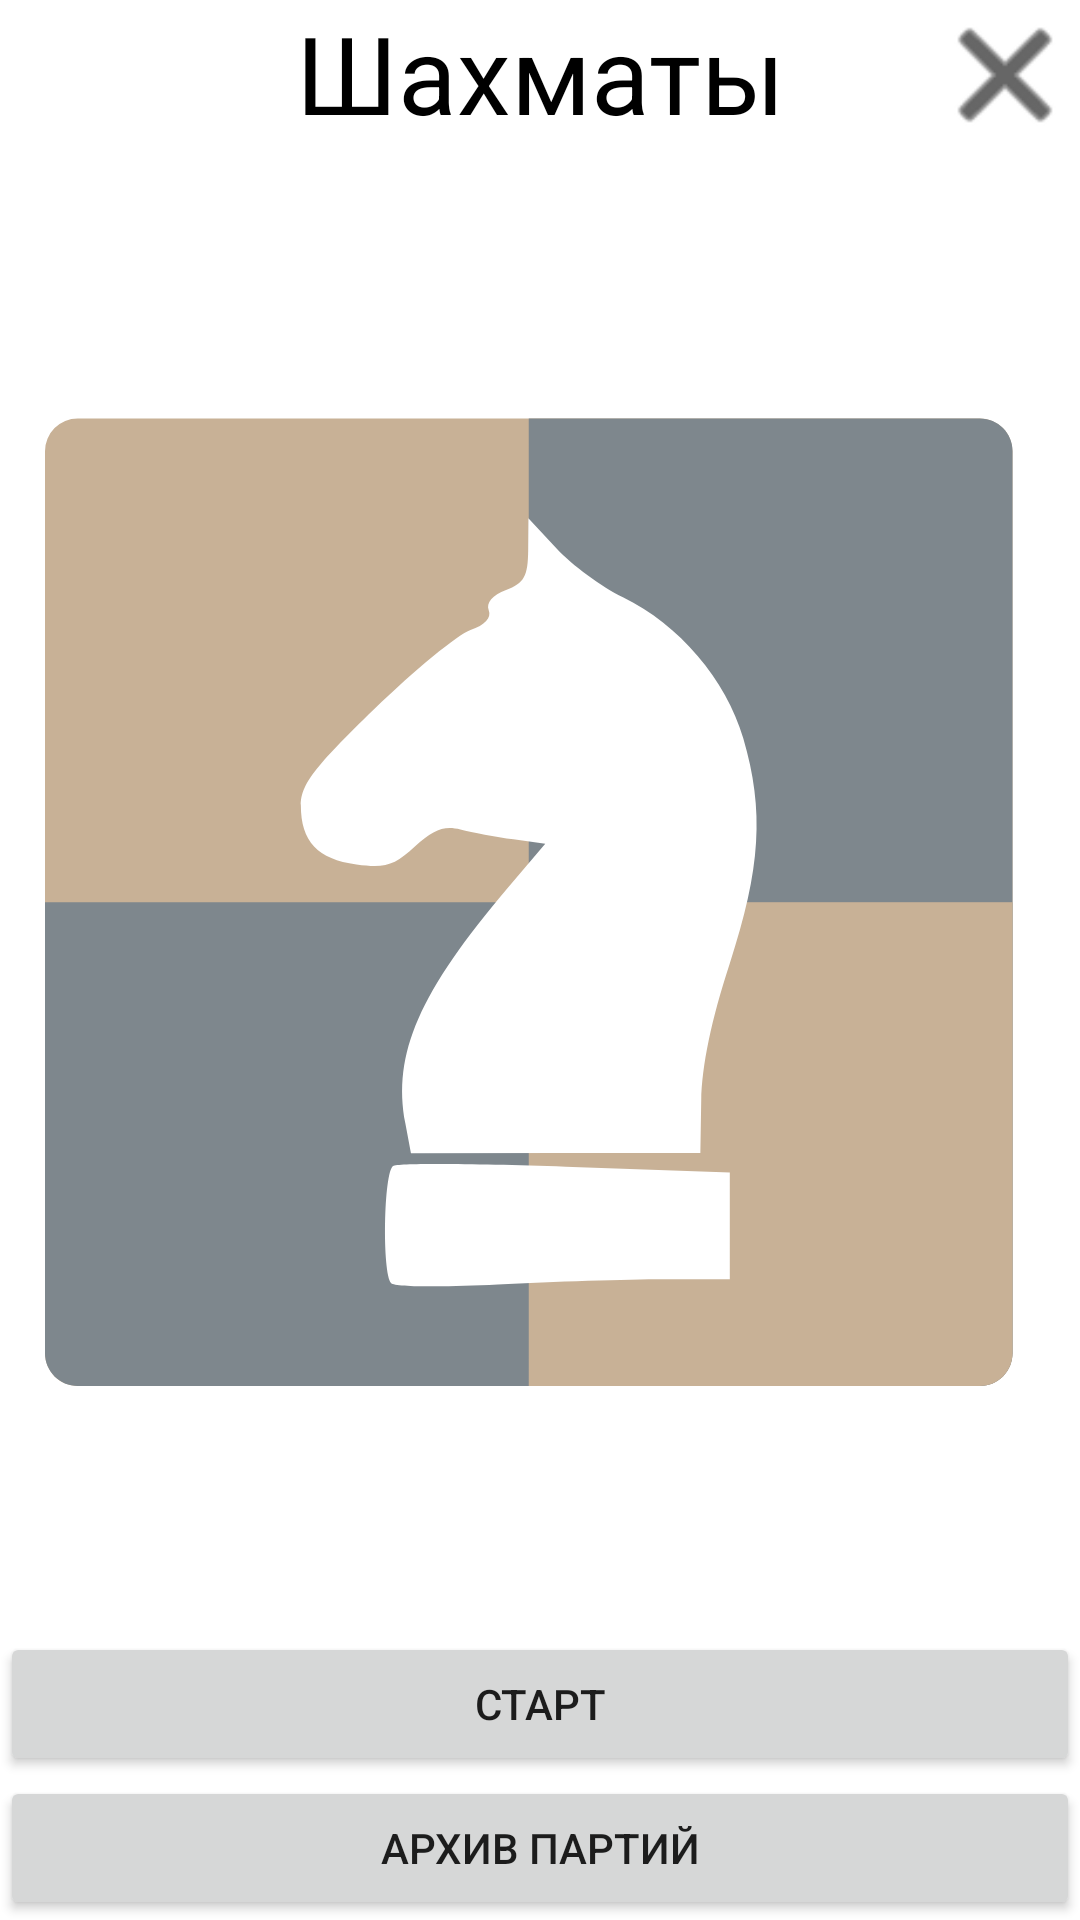

Screen size 1080x1920. Icon name, then its center in pixels as [x,y]:
close clear cancel: [1005,75]
